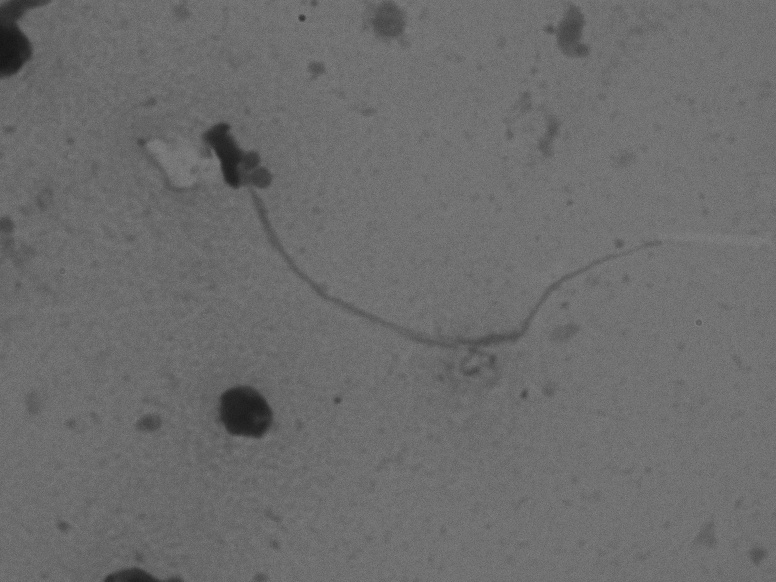Abnormal: (181, 84, 683, 376)
